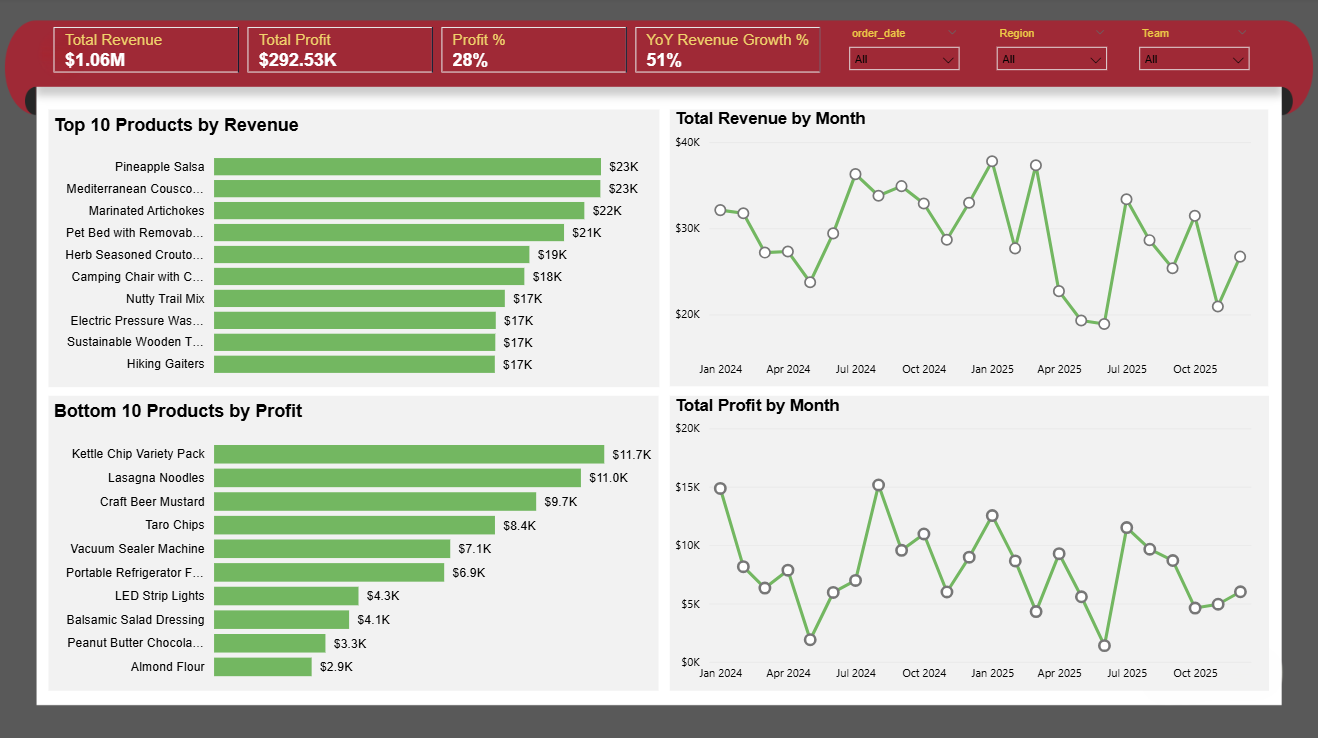

What the dashboard file says about the page in this screenshot:
{"tool":"powerbi","page":{"name":"products","canvas":[1280,720],"ordinal":1},"visuals":[{"type":"slicer","fields":{"Values":["Sales_Fact.order_date.Variation.Date Hierarchy.Year"]},"box":[813.1,24.1,127,54],"z":0,"group":"g1"},{"type":"barChart","title":"Top 10 Products by Revenue","fields":{"Category":["Products.product_name"],"Y":["Sales_Fact.Total Revenue"]},"box":[50.3,108,589.2,267.6],"z":0},{"type":"slicer","fields":{"Values":["Regions.region_name"]},"box":[954.9,24.1,127.1,54.3],"z":1000,"group":"g1"},{"type":"barChart","title":"Bottom 10 Products by Profit","fields":{"Category":["Products.product_name"],"Y":["Sales_Fact.Total Revenue"]},"box":[50.7,384.9,588.7,284.7],"z":1000},{"type":"slicer","fields":{"Values":["Salespersons.team"]},"box":[1092.7,24.1,127,54],"z":2000,"group":"g1"},{"type":"lineChart","title":"Total Revenue by Month","fields":{"Y":["Sales_Fact.Total Revenue"],"Category":["Date.MonthStart.Variation.Date Hierarchy.Year","Date.MonthStart.Variation.Date Hierarchy.Month"]},"box":[650.4,108.4,577.7,267.6],"z":2000},{"type":"lineChart","title":"Total Profit by Month","fields":{"Y":["Sales_Fact.Total Profit"],"Category":["Date.MonthStart.Variation.Date Hierarchy.Year","Date.MonthStart.Variation.Date Hierarchy.Month"]},"box":[650,385,578,285],"z":3000},{"type":"cardVisual","fields":{"Data":["Sales_Fact.Total Revenue","Sales_Fact.Total Profit","Sales_Fact.Profit %","Sales_Fact.YoY Revenue Growth %"]},"box":[50.8,24.7,753.3,54.9],"z":4000},{"type":"group","id":"g1","title":"Group 1","box":[813.1,24.1,406.6,54.3],"z":5000}]}

Visuals, with their boxes in screenshot pixels (x1, y1, x2, y2), scaled from the page's 1280x720 canvas onto the 1318x738 screenshot:
slicer - Sales_Fact.order_date.Variation.Date Hierarchy.Year: [x1=837, y1=25, x2=968, y2=80]
"Top 10 Products by Revenue" barChart: [x1=52, y1=111, x2=658, y2=385]
slicer - Regions.region_name: [x1=983, y1=25, x2=1114, y2=80]
"Bottom 10 Products by Profit" barChart: [x1=52, y1=395, x2=658, y2=686]
slicer - Salespersons.team: [x1=1125, y1=25, x2=1256, y2=80]
"Total Revenue by Month" lineChart: [x1=670, y1=111, x2=1265, y2=385]
"Total Profit by Month" lineChart: [x1=669, y1=395, x2=1264, y2=687]
cardVisual - Sales_Fact.Total Revenue x Sales_Fact.Total Profit: [x1=52, y1=25, x2=828, y2=82]
"Group 1" group: [x1=837, y1=25, x2=1256, y2=80]
